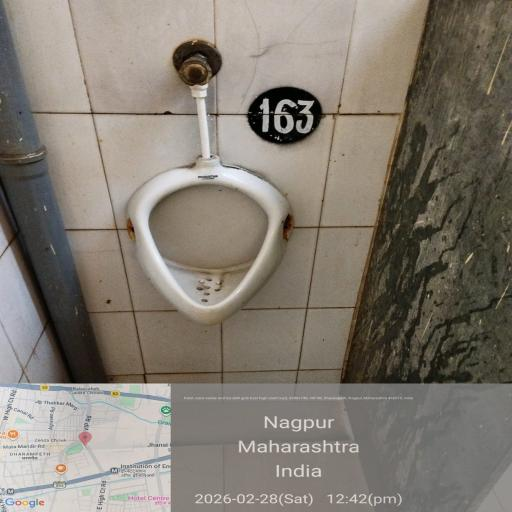clean_urinal: (105, 165, 316, 336)
partial_dirty_floor: (0, 342, 512, 510), (12, 21, 512, 171)
